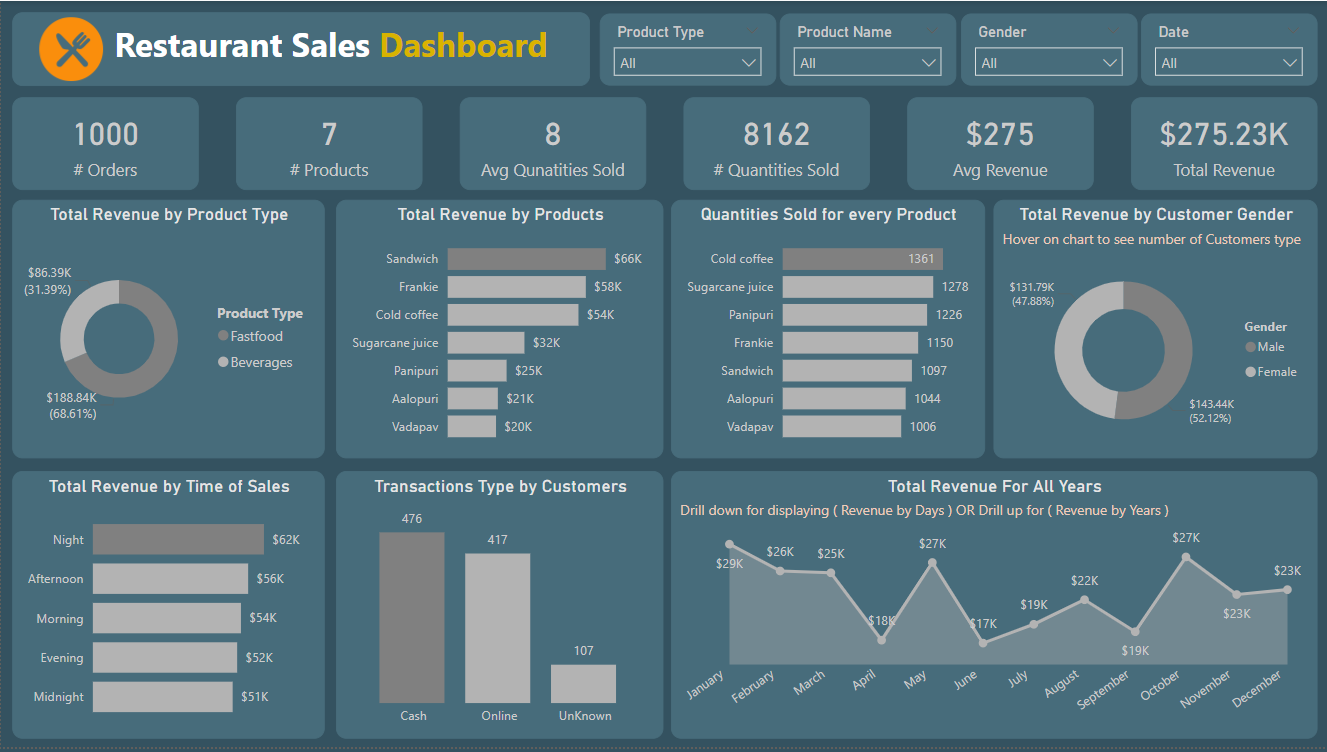

Layout of this report page (visuals, bound fields, positions):
{"tool":"powerbi","page":{"name":"Page 1","canvas":[1280,720],"ordinal":0},"visuals":[{"type":"textbox","box":[10.9,10.9,557.4,71.2],"z":0},{"type":"image","box":[24.7,11,87.8,71.4],"z":1000},{"type":"card","fields":{"Values":["Balaji Fast Food Sales.# Orders"]},"box":[10.9,92.9,179.8,89.3],"z":2000},{"type":"card","fields":{"Values":["Balaji Fast Food Sales.# Products"]},"box":[226.8,92.9,179.8,89.3],"z":3000},{"type":"card","fields":{"Values":["Balaji Fast Food Sales.# Quantities"]},"box":[658.7,92.9,179.8,89.3],"z":4000},{"type":"card","fields":{"Values":["Balaji Fast Food Sales.Avg Revenue"]},"box":[874.7,92.9,179.8,89.3],"z":5000},{"type":"card","fields":{"Values":["Balaji Fast Food Sales.Total Revenue"]},"box":[1090.6,92.9,179.8,89.3],"z":6000},{"type":"barChart","title":"Total Revenue by Products","fields":{"Category":["Balaji Fast Food Sales.item_name"],"Y":["Balaji Fast Food Sales.Total Revenue"]},"box":[323.3,191.8,316.1,249.7],"z":7000},{"type":"barChart","title":"Quantities Sold for every Product","fields":{"Category":["Balaji Fast Food Sales.item_name"],"Y":["Balaji Fast Food Sales.# Quantities"]},"box":[646.7,191.8,302.8,249.7],"z":8000},{"type":"columnChart","title":"Transactions Type by Customers","fields":{"Category":["Balaji Fast Food Sales.transaction_type"],"Y":["CountNonNull(Balaji Fast Food Sales.order_id)"]},"box":[323.3,453.6,316.1,258.2],"z":9000},{"type":"barChart","title":"Total Revenue by Time of Sales","fields":{"Category":["Balaji Fast Food Sales.time_of_sale"],"Y":["Balaji Fast Food Sales.Total Revenue"]},"box":[10.9,453.6,301.6,258.2],"z":10000},{"type":"lineChart","fields":{"Category":["Balaji Fast Food Sales.Year","Balaji Fast Food Sales.Month","Balaji Fast Food Sales.Days","Balaji Fast Food Sales.DaysOfMonth"],"Y":["Balaji Fast Food Sales.Total Revenue"]},"box":[646.7,453.6,623.7,258.2],"z":11000},{"type":"donutChart","title":"Total Revenue by Customer Gender","fields":{"Category":["Balaji Fast Food Sales.received_by"],"Y":["Balaji Fast Food Sales.Total Revenue"]},"box":[957.9,191.8,312.5,249.7],"z":12000},{"type":"donutChart","title":"Total Revenue by Product Type","fields":{"Category":["Balaji Fast Food Sales.item_type"],"Y":["Balaji Fast Food Sales.Total Revenue"]},"box":[10.9,191.8,301.6,249.7],"z":13000},{"type":"slicer","fields":{"Values":["Balaji Fast Food Sales.item_type"]},"box":[577.9,12.1,170.1,70],"z":14000},{"type":"slicer","fields":{"Values":["Balaji Fast Food Sales.item_name"]},"box":[752,12.1,170.1,70],"z":15000},{"type":"slicer","fields":{"Values":["Balaji Fast Food Sales.Year","Balaji Fast Food Sales.Month"]},"box":[1100.3,12.1,170.1,70],"z":16000},{"type":"slicer","fields":{"Values":["Balaji Fast Food Sales.received_by"]},"box":[926.1,12.1,170.1,70],"z":17000},{"type":"card","fields":{"Values":["Balaji Fast Food Sales.Avg Qunatity"]},"box":[442.8,92.9,179.8,89.3],"z":18000}]}

Visuals, with their boxes in screenshot pixels (x1, y1, x2, y2), scaled from the page's 1280x720 canvas onto the 1327x752 screenshot:
textbox: bbox=(11, 11, 589, 86)
image: bbox=(26, 11, 117, 86)
card - Balaji Fast Food Sales.# Orders: bbox=(11, 97, 198, 190)
card - Balaji Fast Food Sales.# Products: bbox=(235, 97, 422, 190)
card - Balaji Fast Food Sales.# Quantities: bbox=(683, 97, 869, 190)
card - Balaji Fast Food Sales.Avg Revenue: bbox=(907, 97, 1093, 190)
card - Balaji Fast Food Sales.Total Revenue: bbox=(1131, 97, 1317, 190)
"Total Revenue by Products" barChart: bbox=(335, 200, 663, 461)
"Quantities Sold for every Product" barChart: bbox=(670, 200, 984, 461)
"Transactions Type by Customers" columnChart: bbox=(335, 474, 663, 743)
"Total Revenue by Time of Sales" barChart: bbox=(11, 474, 324, 743)
lineChart - Balaji Fast Food Sales.Year x Balaji Fast Food Sales.Month: bbox=(670, 474, 1317, 743)
"Total Revenue by Customer Gender" donutChart: bbox=(993, 200, 1317, 461)
"Total Revenue by Product Type" donutChart: bbox=(11, 200, 324, 461)
slicer - Balaji Fast Food Sales.item_type: bbox=(599, 13, 775, 86)
slicer - Balaji Fast Food Sales.item_name: bbox=(780, 13, 956, 86)
slicer - Balaji Fast Food Sales.Year x Balaji Fast Food Sales.Month: bbox=(1141, 13, 1317, 86)
slicer - Balaji Fast Food Sales.received_by: bbox=(960, 13, 1136, 86)
card - Balaji Fast Food Sales.Avg Qunatity: bbox=(459, 97, 645, 190)
